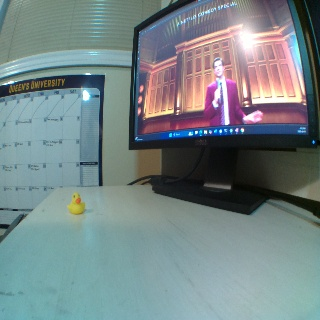duck_regular: (66, 192, 85, 215)
